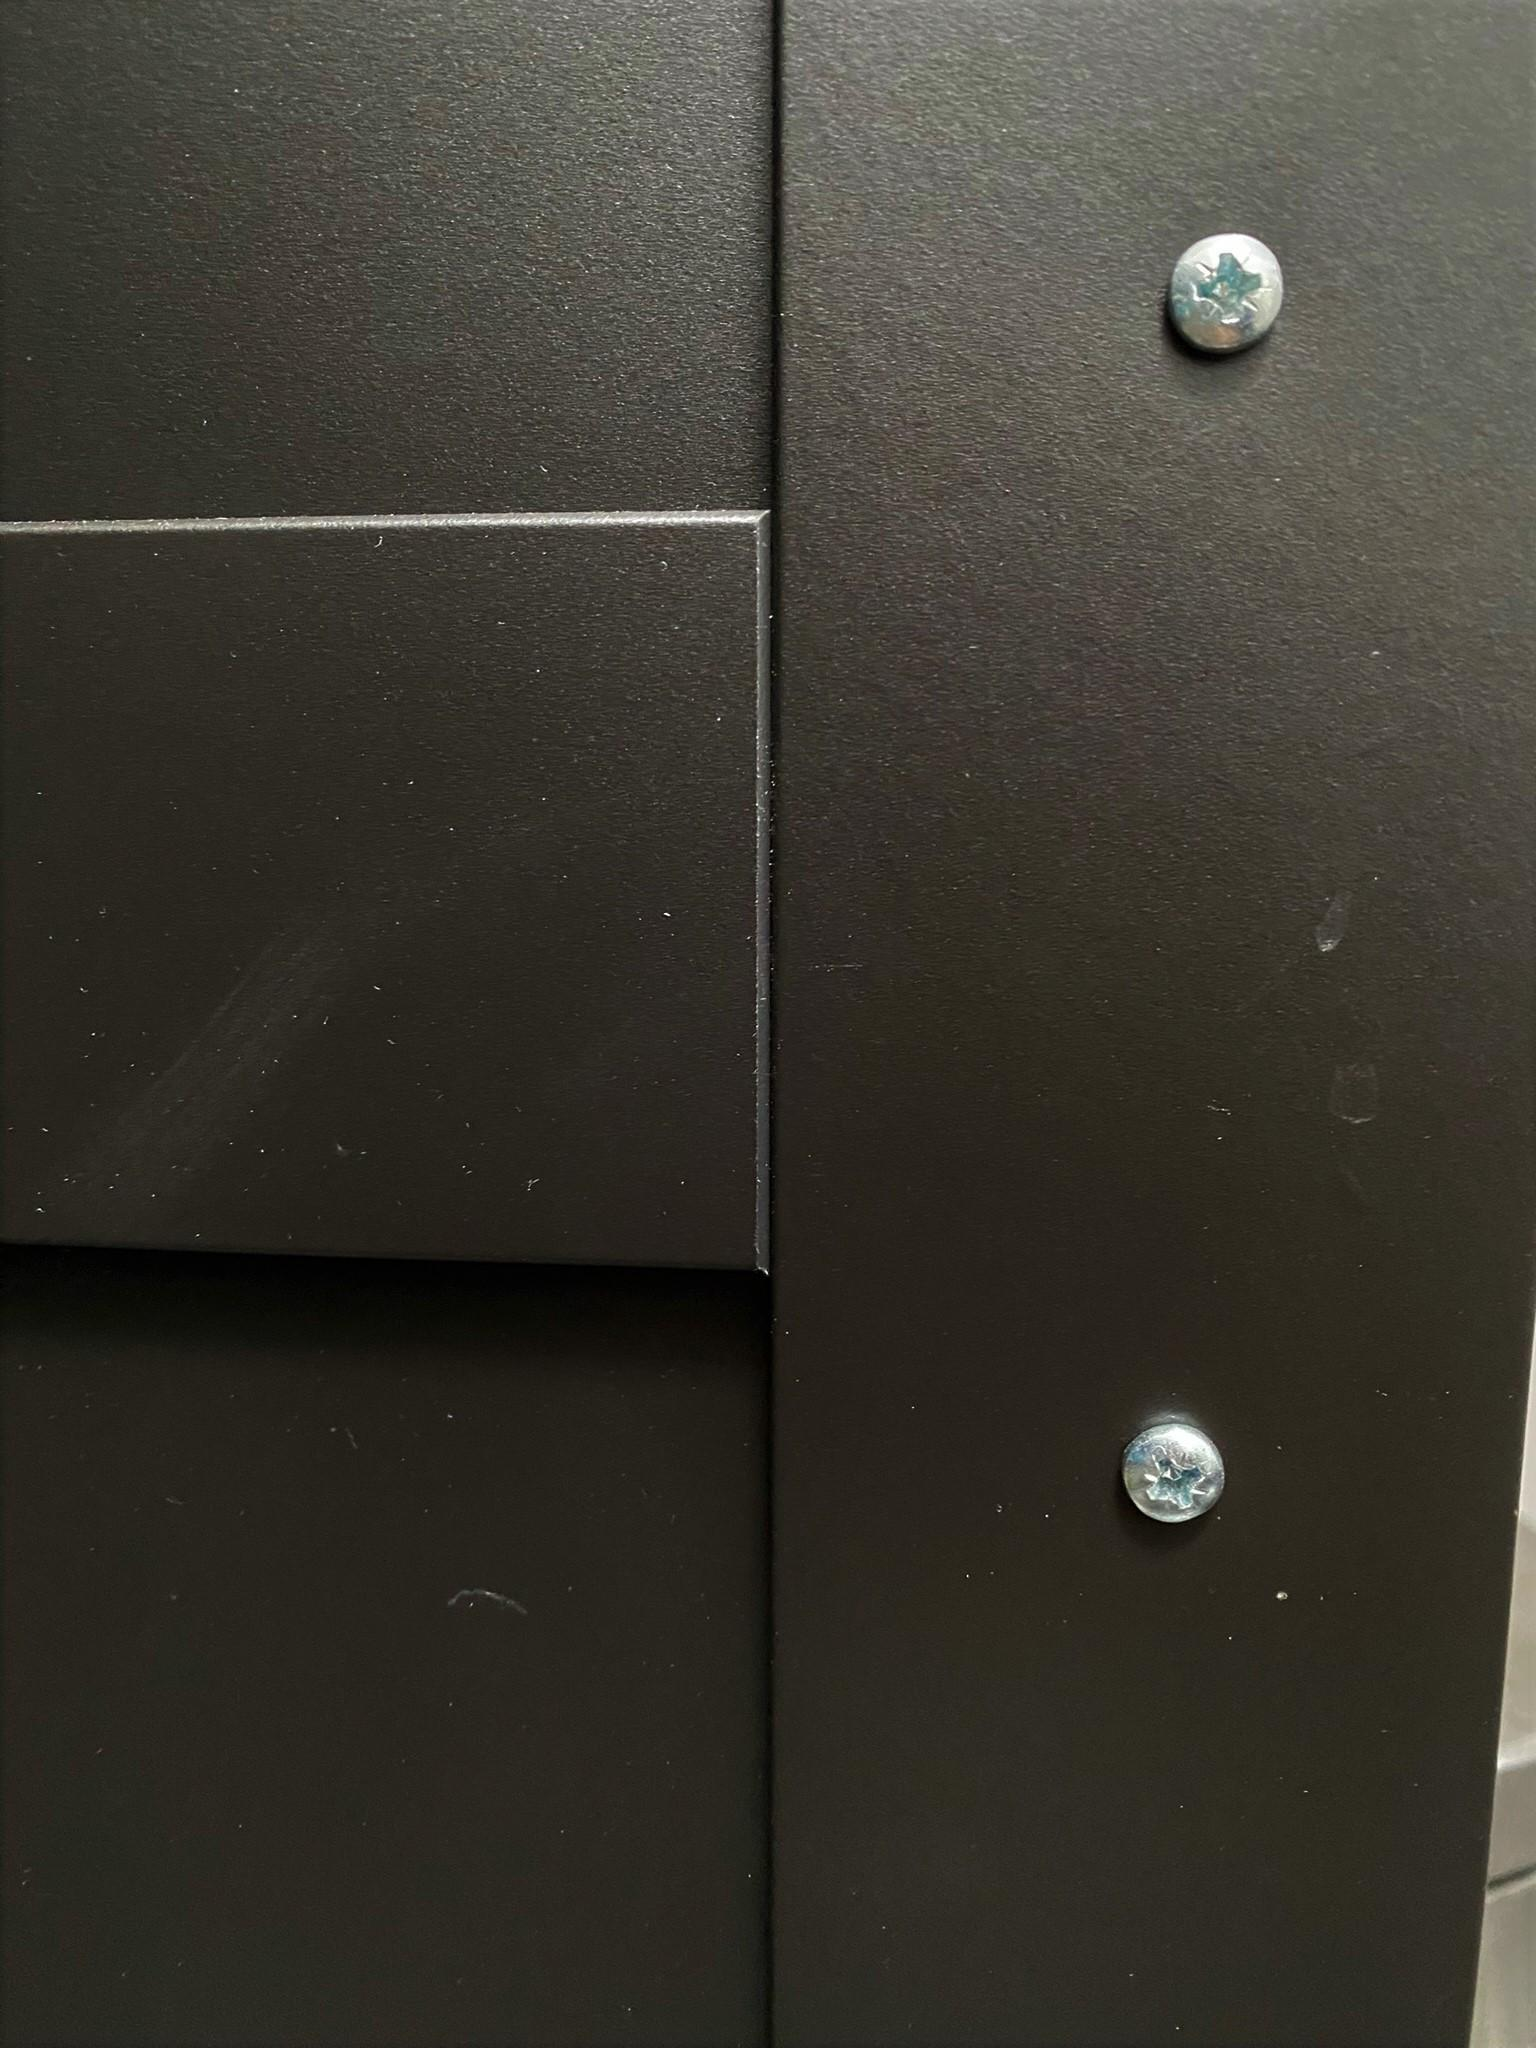PH: (1168, 232, 1288, 356), (1121, 1424, 1228, 1524)
